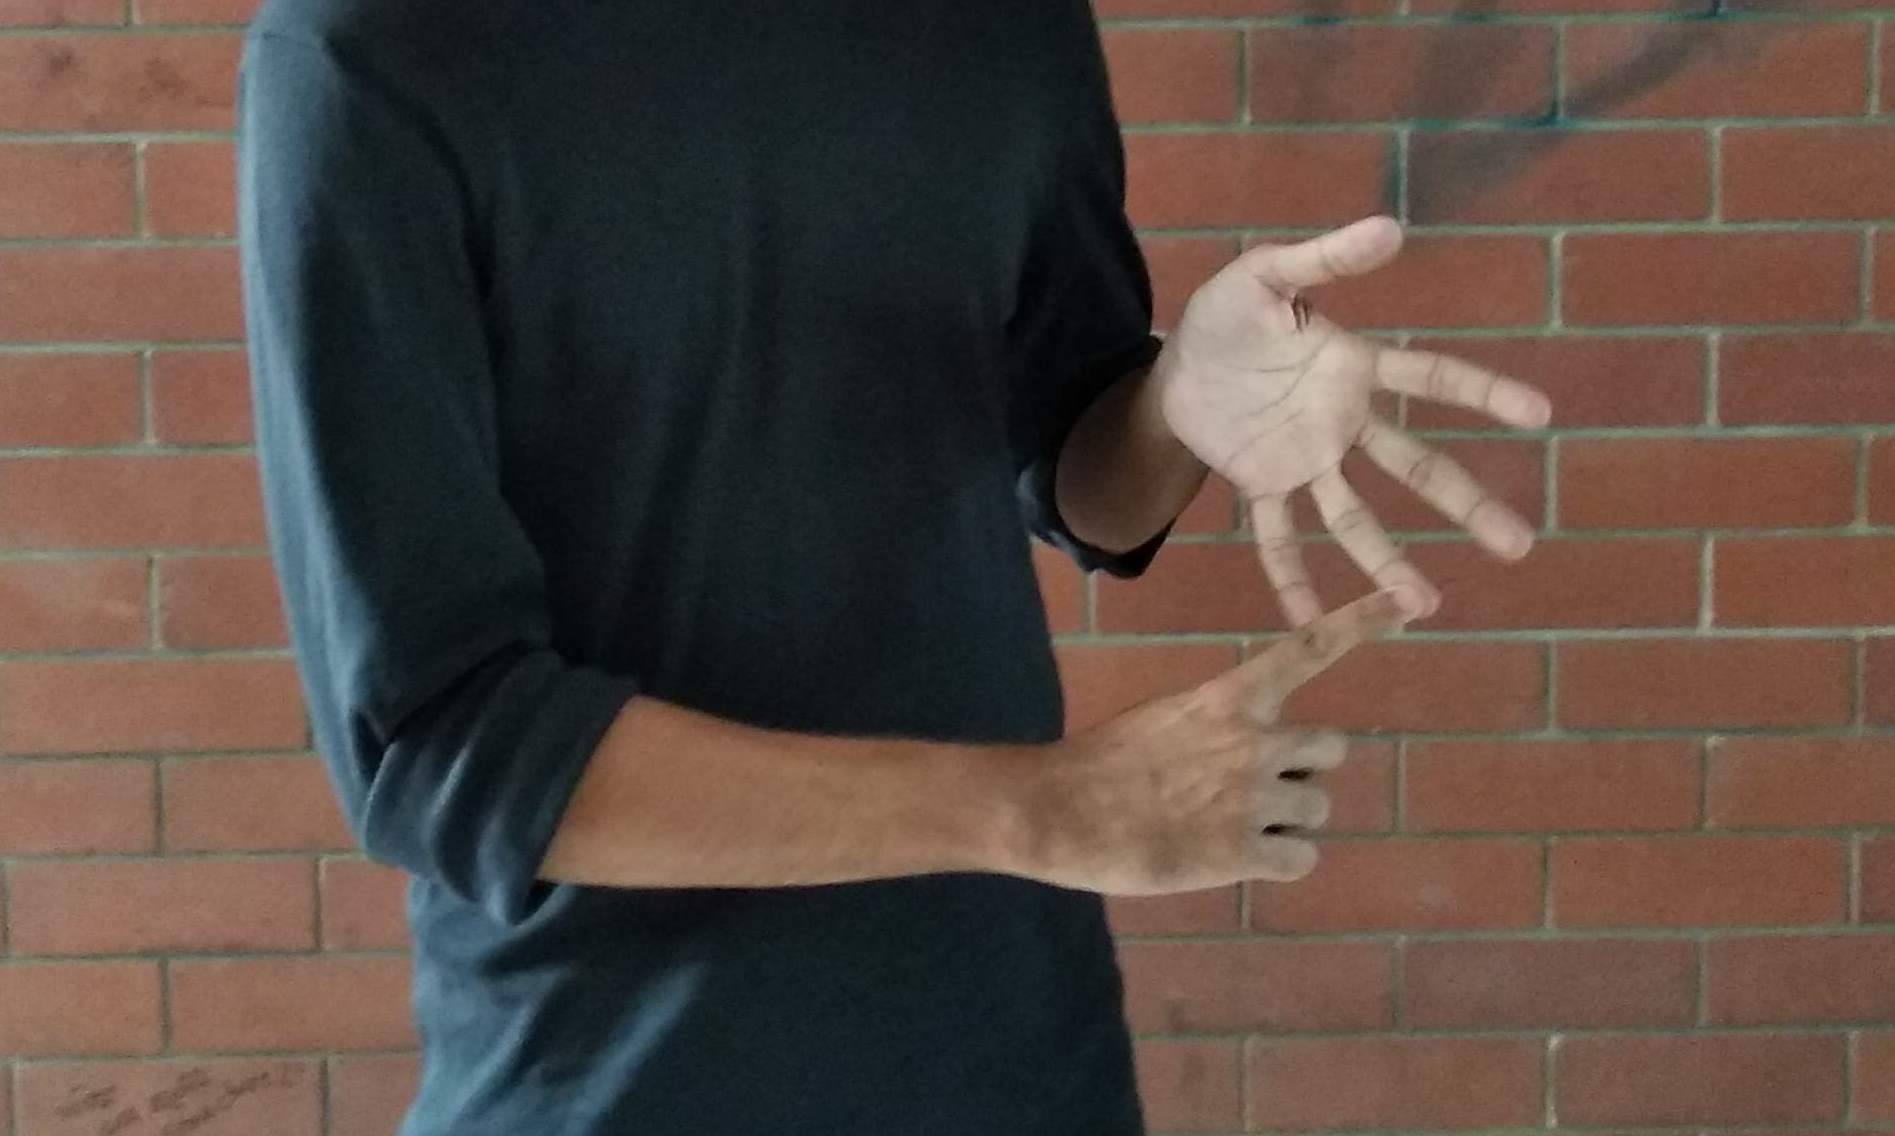e: (1103, 203, 1546, 913)
